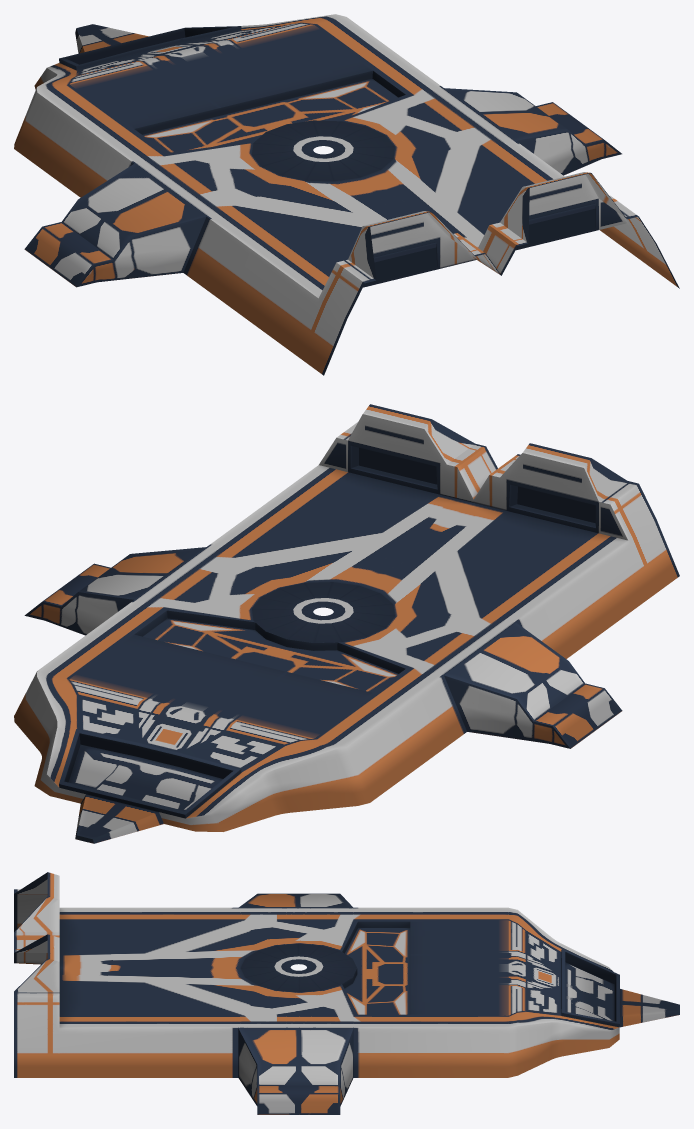
Rendered from Mothership Adjusted.fbx.
3 renders of one model, top to bottom at view 1: azimuth 30°, elevation 25°; view 2: azimuth 150°, elevation 25°; view 3: azimuth 270°, elevation 25°, orthographic. The views are drawn at different scales.
Parts seen in each view (by area): view 1: Mothership; view 2: Mothership; view 3: Mothership.
Part boxes in pixels (<box>): Mothership: <box>14,14,679,375</box>; Mothership: <box>14,404,679,843</box>; Mothership: <box>14,872,679,1114</box>.
Size of the model in its own units: 2809 by 3717 by 592.
